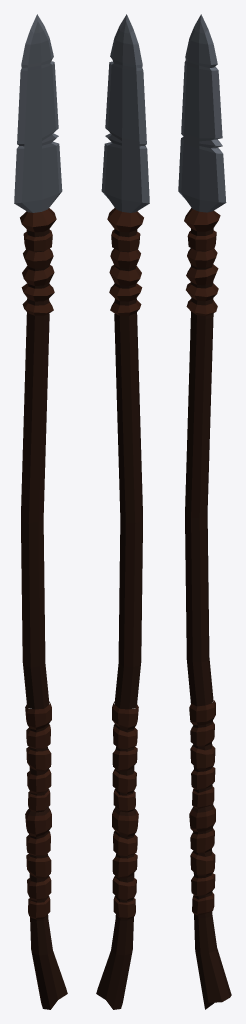
The model's file is Spear.glb.
3 views of the same model, side by side, from view 1: azimuth 30°, elevation 25°; view 2: azimuth 150°, elevation 25°; view 3: azimuth 330°, elevation 25° (orthographic).
Parts seen in each view (by area): view 1: Spear; view 2: Spear; view 3: Spear.
Part boxes in pixels (x1,y1,x2,y2): Spear: [14, 14, 67, 1009]; Spear: [96, 14, 149, 1009]; Spear: [178, 14, 231, 1009].
Bounding box in the file's own units: 0.0848 × 1.55 × 0.052.
